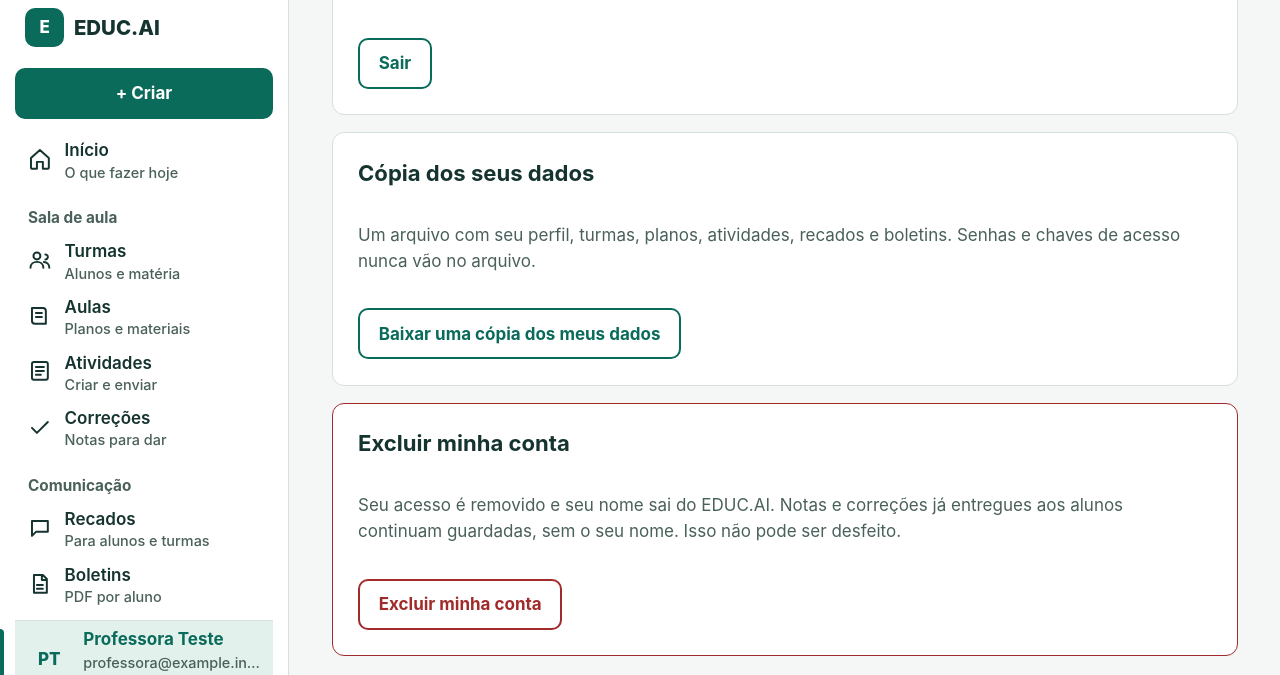
Test: Google authentication screen › returns to the sign-in screen after the account is deleted
The width and height of the screenshot is (1280, 675).
(page scrolled)
Click the button "Excluir minha conta" at {"x": 460, "y": 604}, box [358,579,562,630]
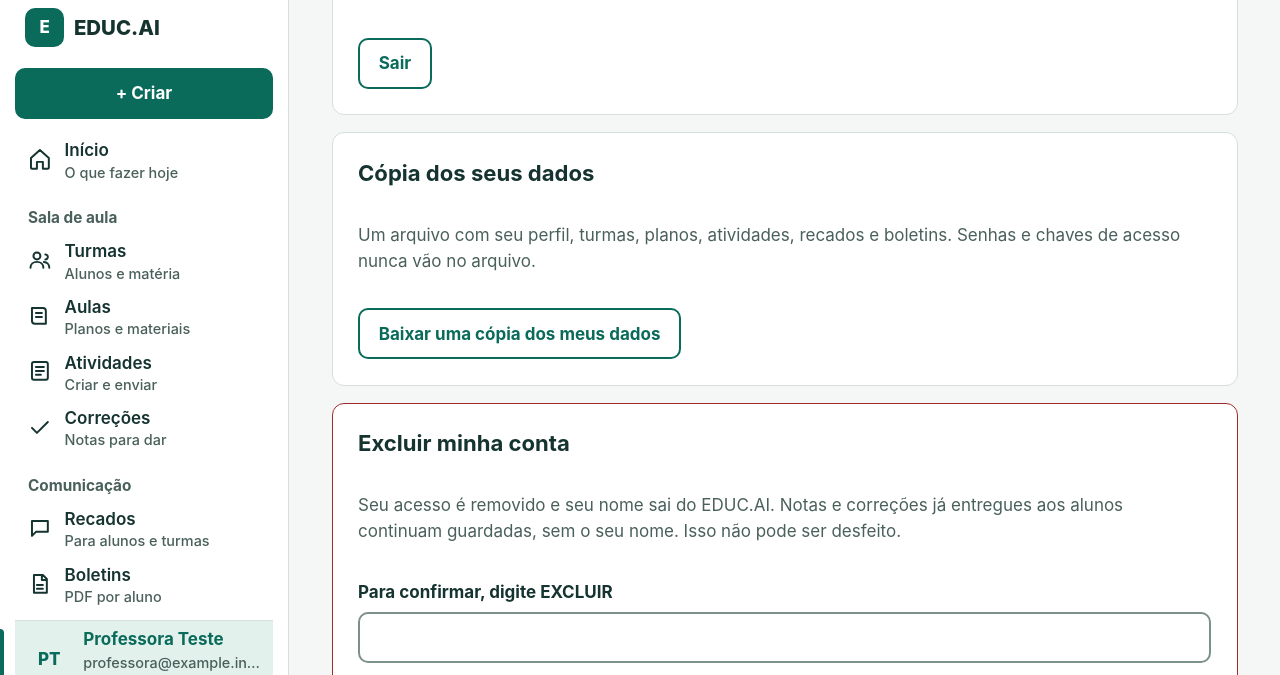
Type "EXCLUIR" into the field labelled "Para confirmar, digite EXCLUIR" at {"x": 784, "y": 637}, box [358,612,1211,663]
(page scrolled)
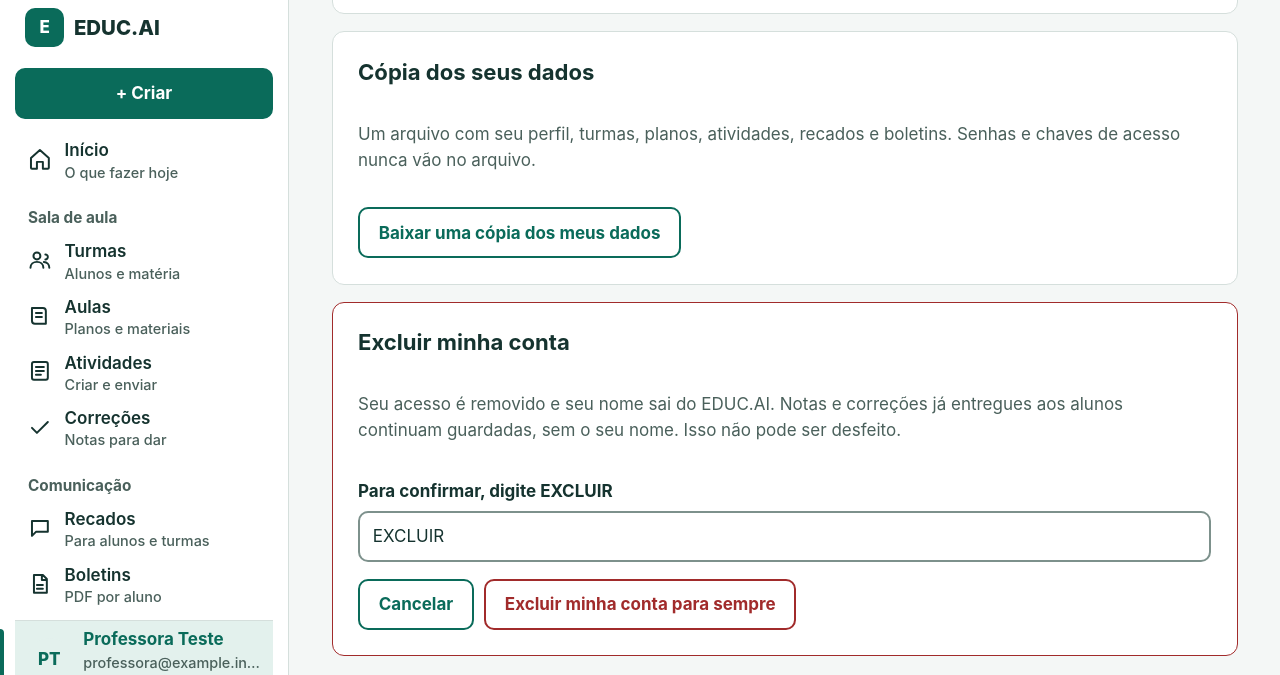
Click the button "Excluir minha conta para sempre" at {"x": 640, "y": 604}, box [484,579,796,630]
(page scrolled)
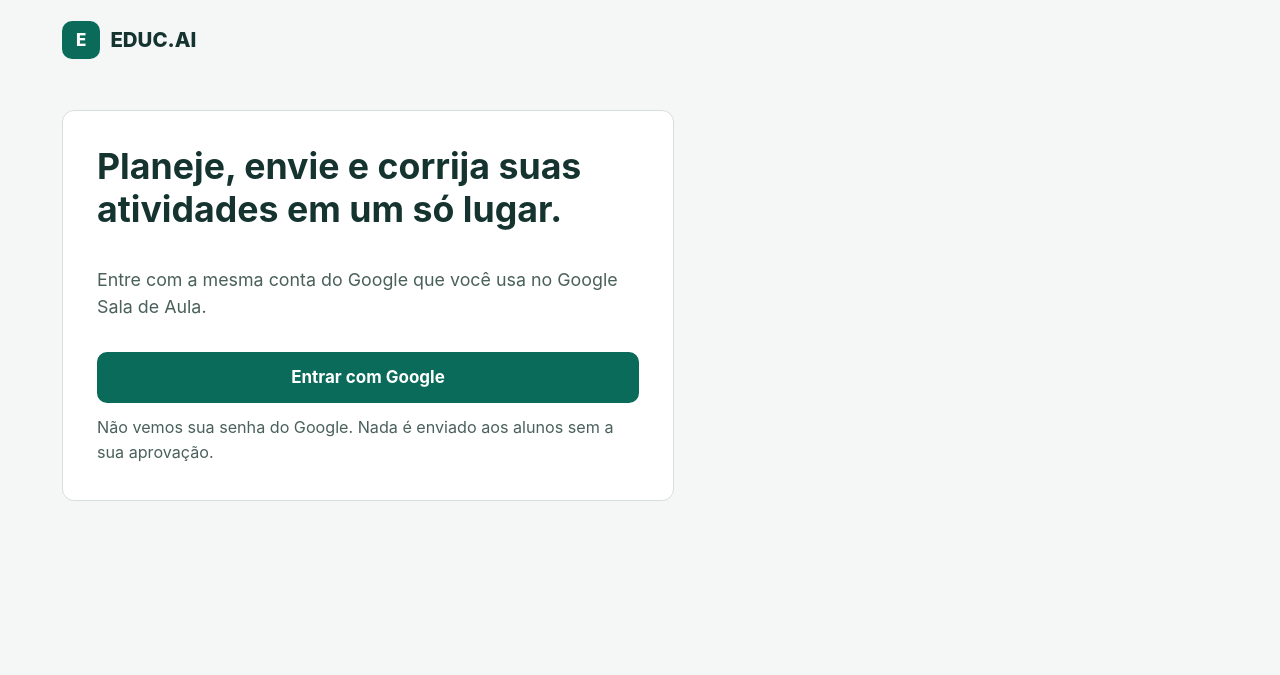
Expected: the link "Entrar com Google" is shown, [97,352,639,403]
